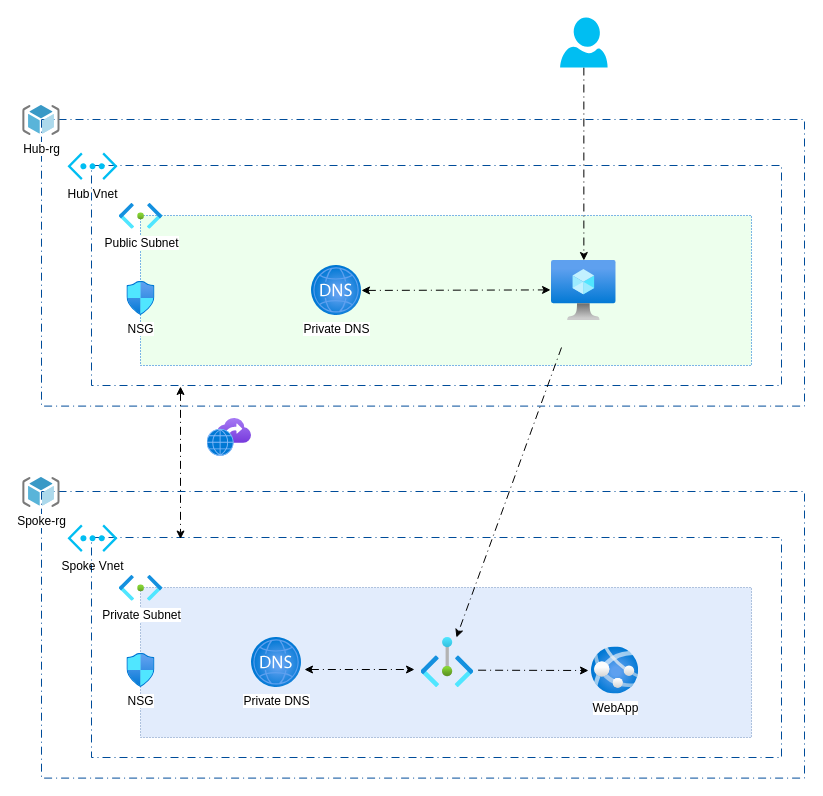
The diagram is 823 pixels wide and 796 high, and some of its shapes have lost their labels. Each missing label, with the centre of its shape:
"landing-VM" belongs at (x=583, y=290).
"Private endpiont" belongs at (x=447, y=662).
"Vnet Peering" belongs at (x=228, y=437).
